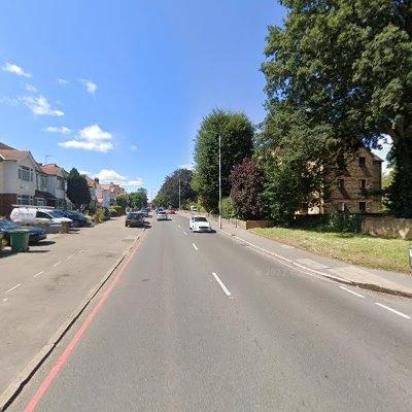moving-car: (188, 214, 212, 232), (156, 209, 168, 221), (166, 206, 176, 214)
stationary-car-offstreet: (0, 217, 46, 245), (52, 207, 92, 228)
stationary-car-onstreet: (126, 211, 146, 227)
stationary-light-truck-offstreet: (9, 204, 71, 226)
